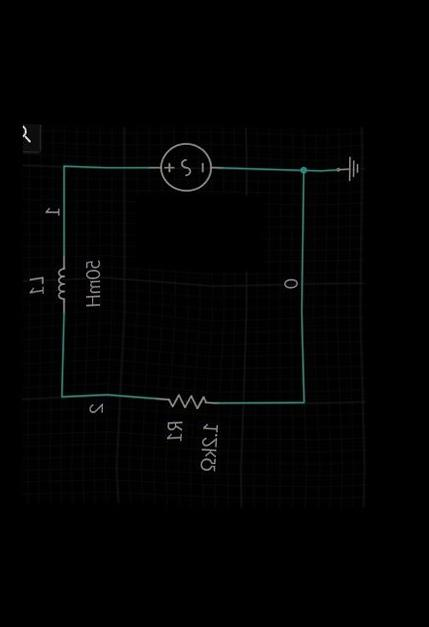Battery: (137, 130, 229, 198)
